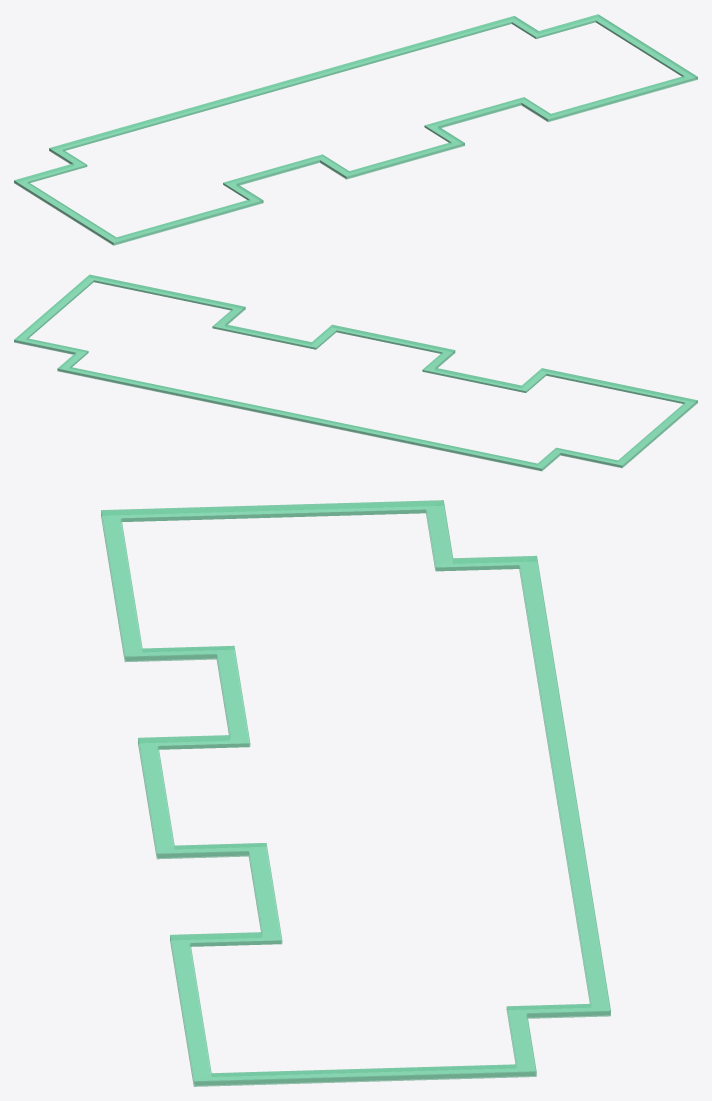
File: OK Attika_circulation.glb
The picture shows the model from 3 angles, top to bottom: view 1: azimuth 30°, elevation 25°; view 2: azimuth 150°, elevation 25°; view 3: azimuth 270°, elevation 25°; orthographic projection. The views are drawn at different scales.
Visible parts, largest first — view 1: Geländer:Dachrandabdeckung 8+20+16:1394454; view 2: Geländer:Dachrandabdeckung 8+20+16:1394454; view 3: Geländer:Dachrandabdeckung 8+20+16:1394454.
Boxes of the visible parts, box(x1,y1,x2,y2) form: Geländer:Dachrandabdeckung 8+20+16:1394454: box(14, 14, 697, 245); Geländer:Dachrandabdeckung 8+20+16:1394454: box(14, 274, 697, 471); Geländer:Dachrandabdeckung 8+20+16:1394454: box(101, 500, 610, 1086).
Bounding box in the file's own units: 37.32 × 0.17 × 13.85.
